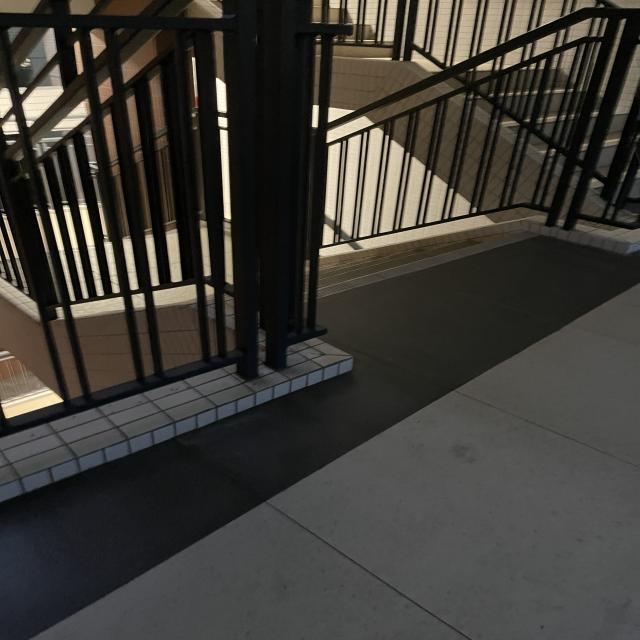Stairs: (193, 212, 545, 321)
